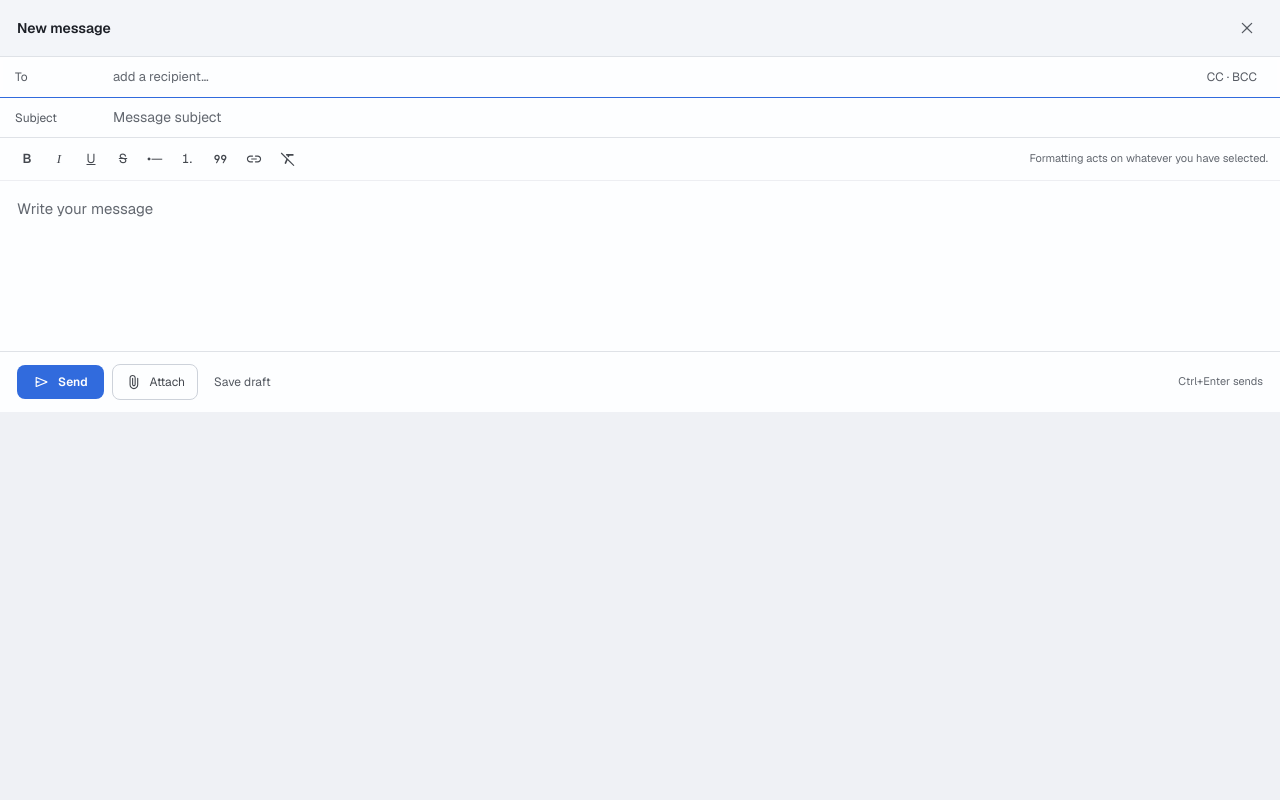
Test: Composer, a message of its own › asks the send question from the shortcut the design draws, rather than sending from it
Type "ada@example.invalid" into the dropdown labelled "To" at coordinates (651, 77), box [113,67,1189,87]
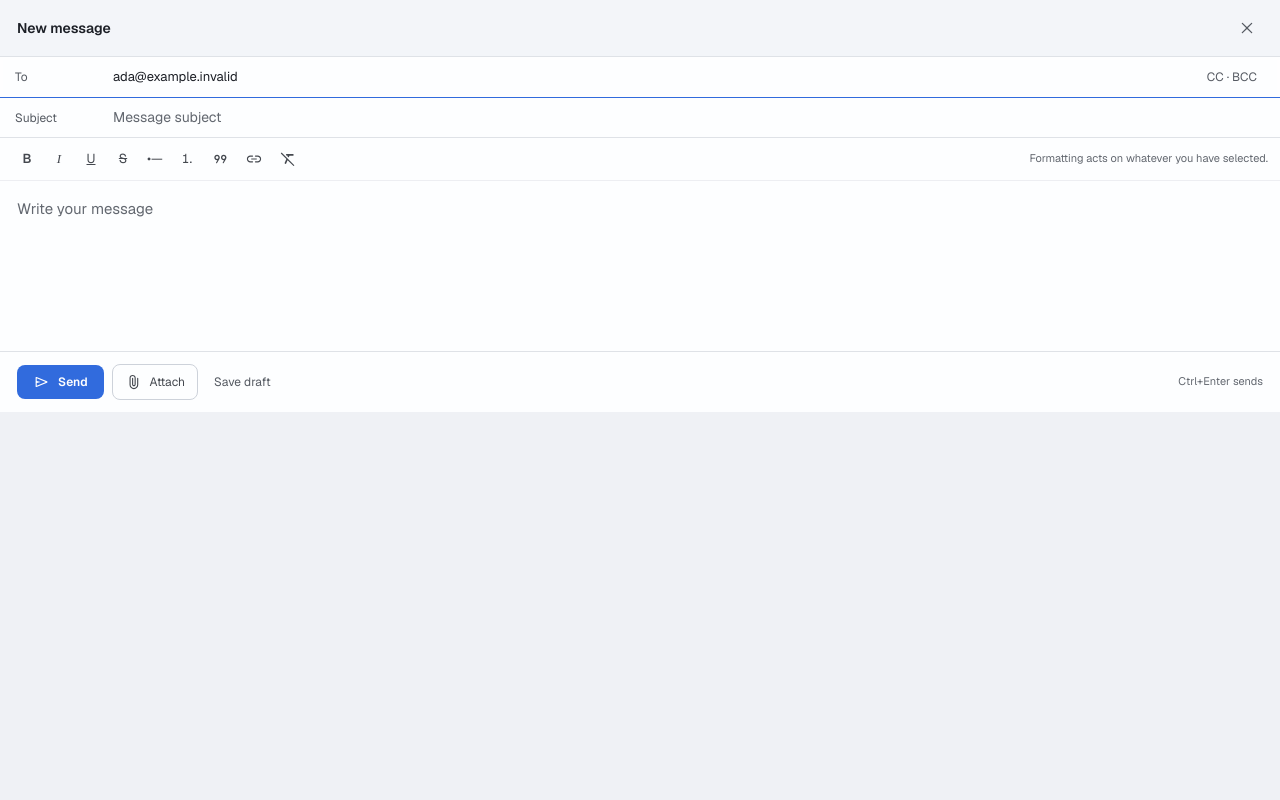
Press Enter in the dropdown labelled "To", box [113,67,1189,87]
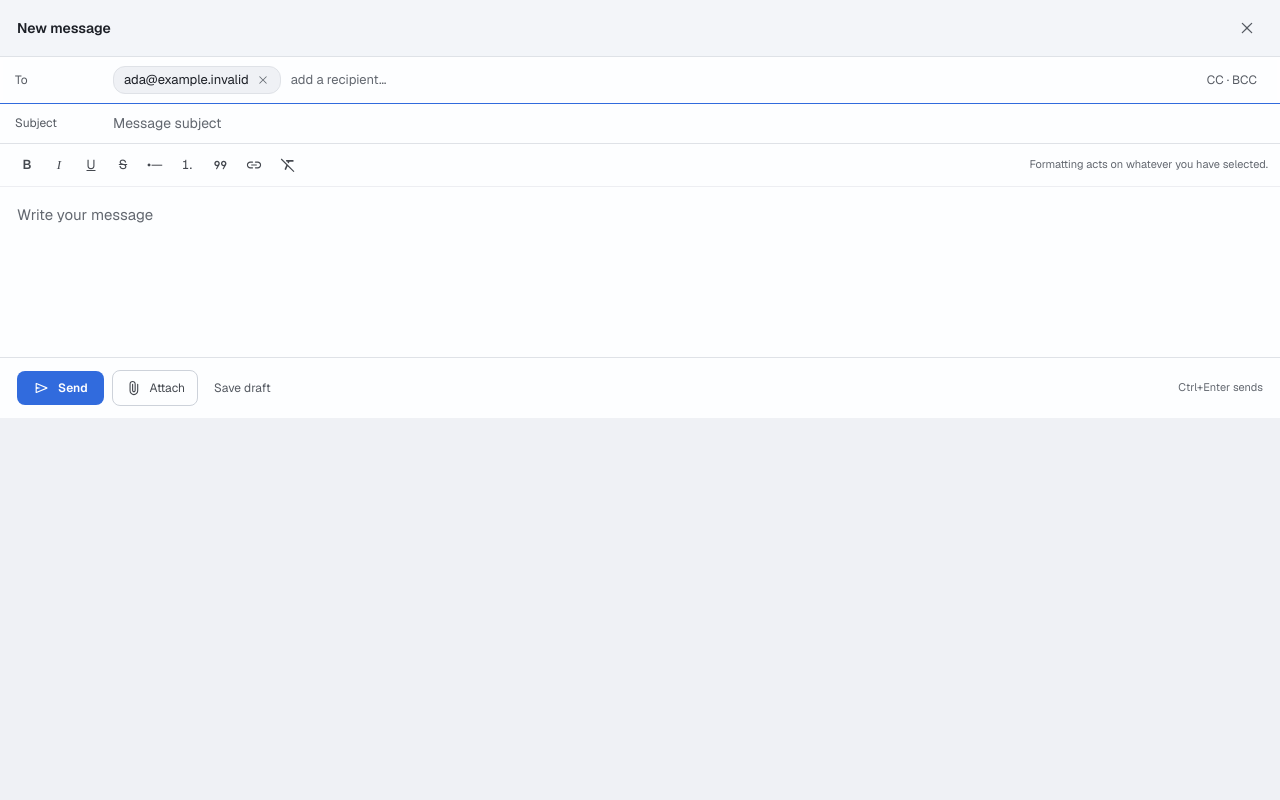
Press Enter in the field named "Message", box [0,186,1279,356]
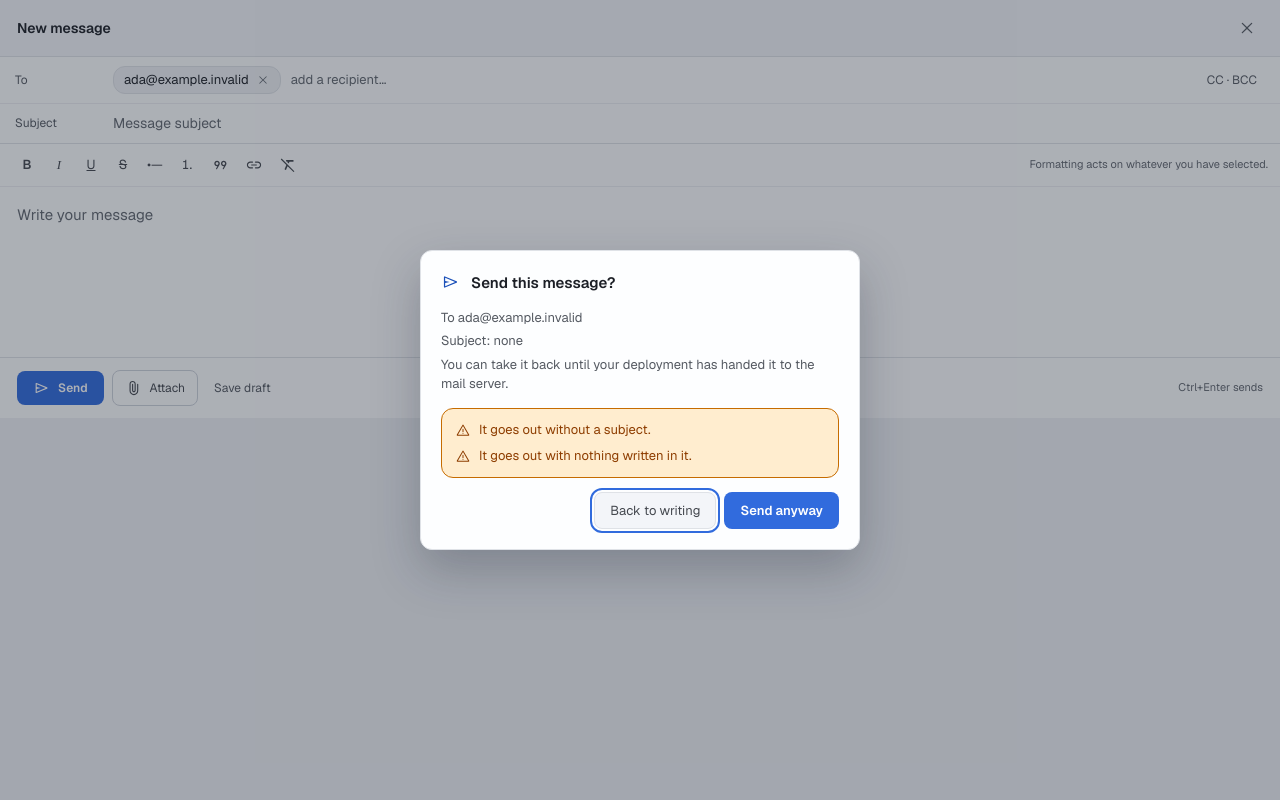
Expected: the dialog "Send this message?" is shown, [471,273,615,292]
